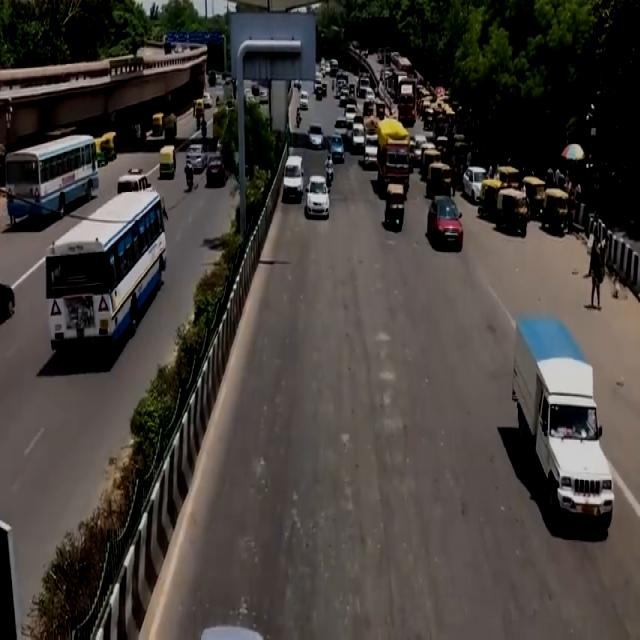BUS: (46, 190, 170, 365), (5, 132, 101, 226)
SED: (428, 195, 465, 253), (307, 173, 328, 222)
TRUCK: (516, 318, 614, 532), (379, 117, 409, 198)
